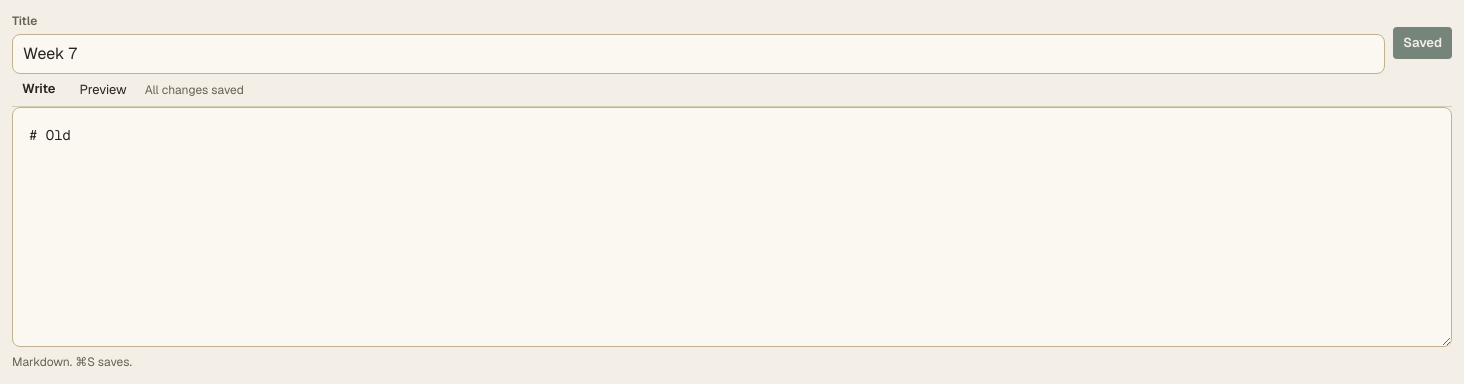
Test: DocumentEditor › previews the unsaved text, not the saved text
The width and height of the screenshot is (1464, 384).
Replace the text in the text box named "document content" with "# New" at {"x": 732, "y": 227}, box [12, 107, 1452, 347]
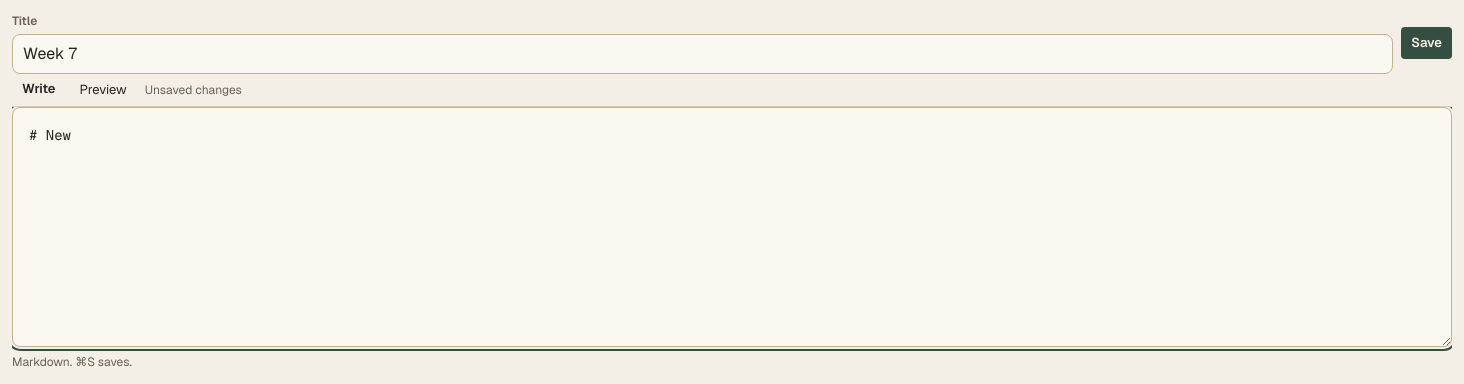
Click the tab "Preview" at {"x": 103, "y": 90}, box [70, 74, 137, 106]
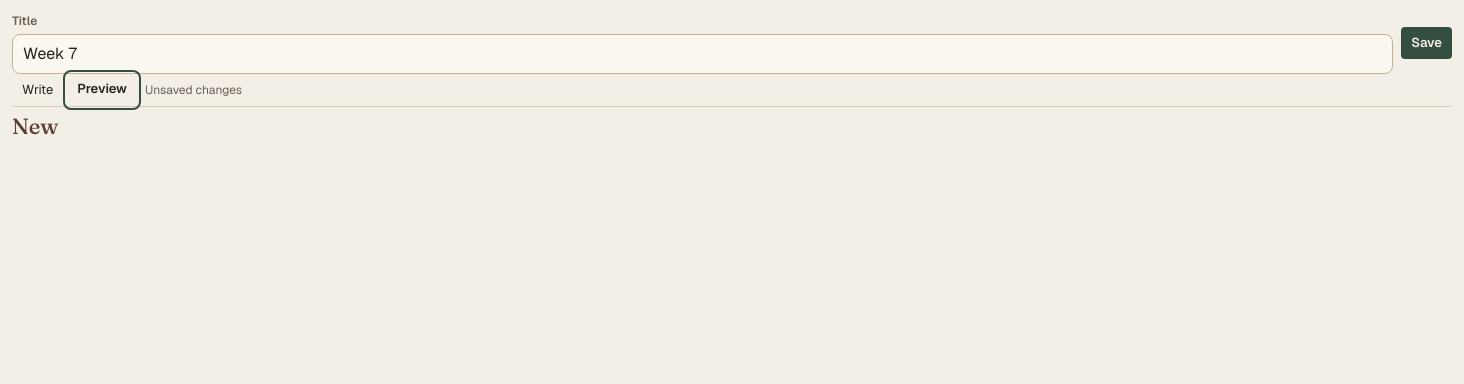
expect the heading "New" is shown: met, box [12, 112, 58, 140]
